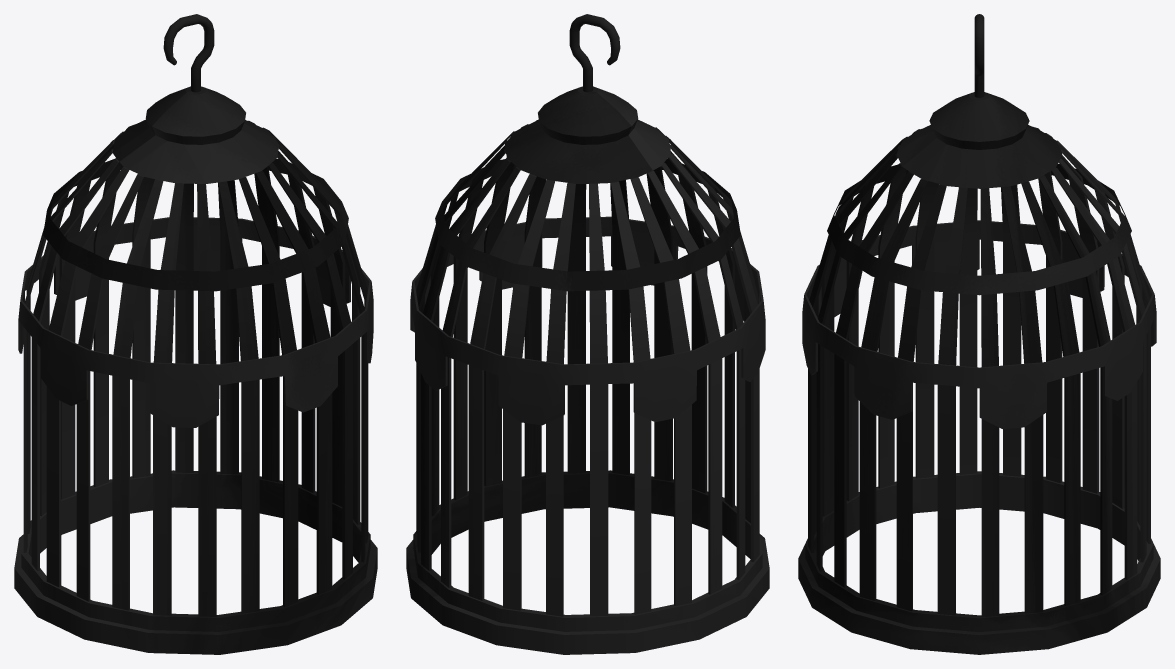
File: cage2.fbx
3 views of the same model, side by side, from view 1: azimuth 30°, elevation 25°; view 2: azimuth 150°, elevation 25°; view 3: azimuth 270°, elevation 25° (orthographic).
Parts seen in each view (by area): view 1: Circle; view 2: Circle; view 3: Circle.
Part boxes in pixels (box(x1,y1,x2,y2)): Circle: box(14, 14, 377, 654); Circle: box(406, 14, 769, 654); Circle: box(798, 14, 1160, 654).
Bounding box in the file's own units: 217 × 368 × 217.
